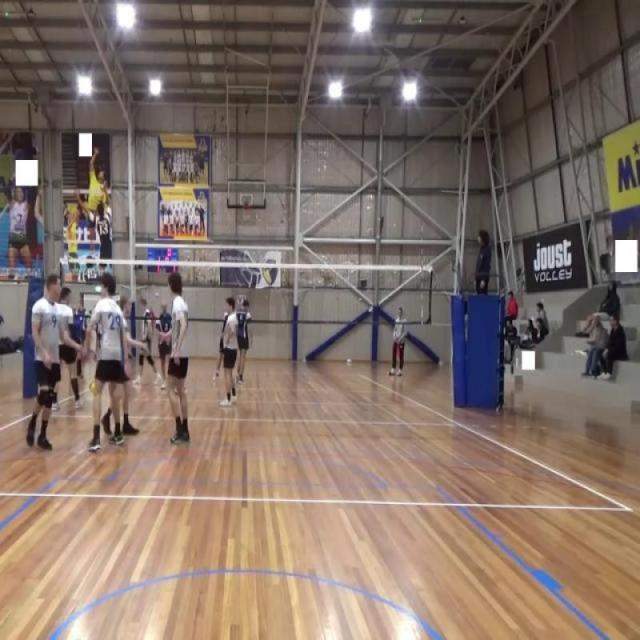volleyball: (88, 378, 96, 394)
